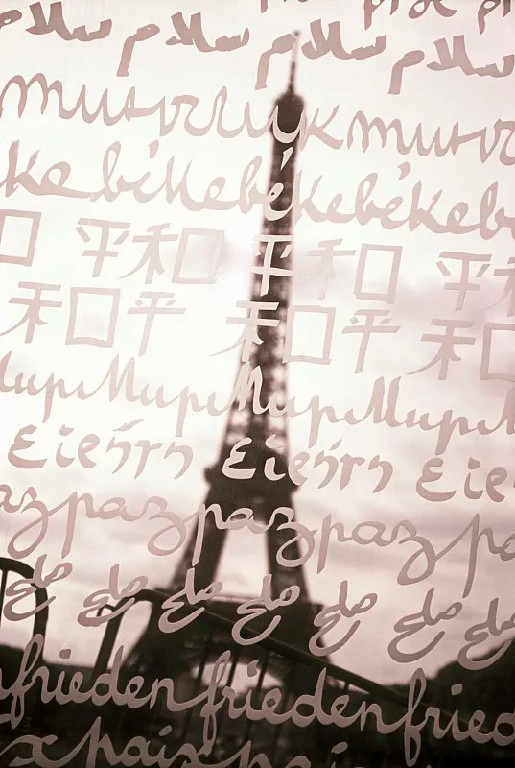Eiffel: (116, 29, 338, 692)
